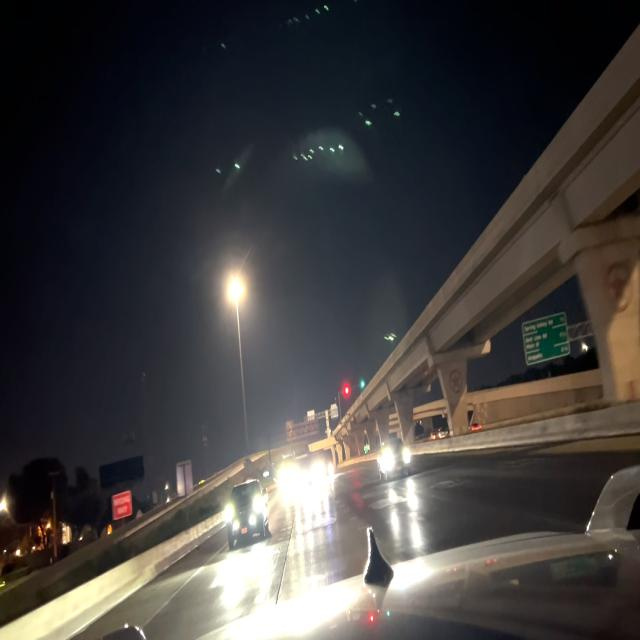back-of-sign: (284, 414, 321, 443), (174, 458, 194, 498)
